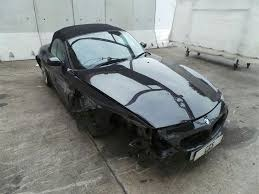Smashed: (67, 89, 177, 177)
